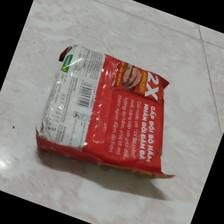3mien: (35, 42, 178, 183)
